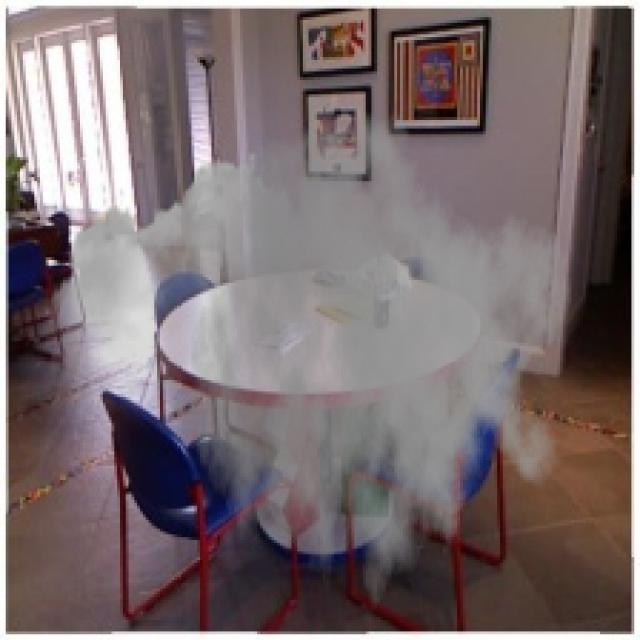Smoke: (42, 91, 574, 634)
